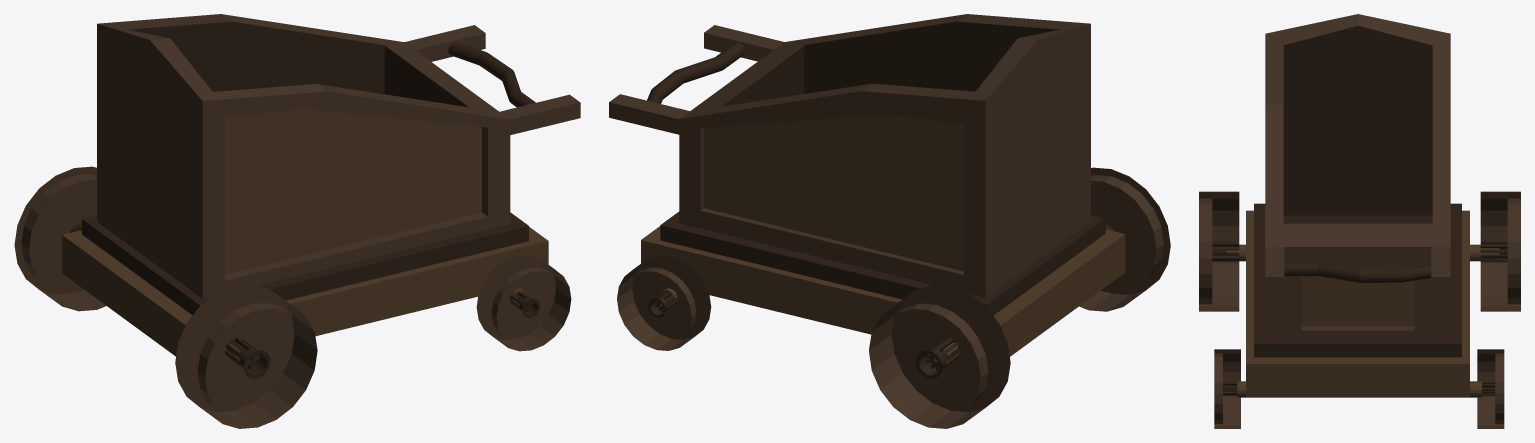
Rendered from chariot Mine.fbx.
The picture shows the model from 3 angles, left to right: view 1: azimuth 30°, elevation 25°; view 2: azimuth 150°, elevation 25°; view 3: azimuth 270°, elevation 25°; orthographic projection. The views are drawn at different scales.
Visible parts, largest first — view 1: planche support chariot.022, Cercle.004, planche support chariot.019, planche support chariot.021, Cercle.001, Cercle.003, manche.002; view 2: planche support chariot.022, planche support chariot.019, Cercle.001, planche support chariot.021, Cercle.004, Cercle.002, manche.002; view 3: planche support chariot.022, planche support chariot.019, planche support chariot.021, Cercle.004, Cercle.001, Cercle.002, Cercle.003, manche.002, Cylindre.001, Cylindre.018.
Boxes of the visible parts, x1,y1,x2,y2 form: planche support chariot.022: (97, 14, 580, 298); Cercle.004: (175, 284, 317, 428); planche support chariot.019: (62, 227, 548, 356); planche support chariot.021: (82, 212, 528, 315); Cercle.001: (14, 166, 106, 311); Cercle.003: (476, 255, 571, 351); manche.002: (448, 42, 535, 107); planche support chariot.022: (609, 14, 1090, 297); planche support chariot.019: (641, 226, 1125, 356); Cercle.001: (869, 285, 1010, 428); planche support chariot.021: (660, 211, 1105, 315); Cercle.004: (1079, 167, 1170, 311); Cercle.002: (617, 255, 711, 350); manche.002: (647, 42, 744, 103); planche support chariot.022: (1265, 14, 1450, 338); planche support chariot.019: (1246, 210, 1469, 397); planche support chariot.021: (1254, 203, 1461, 357); Cercle.004: (1199, 191, 1239, 311); Cercle.001: (1480, 191, 1520, 311); Cercle.002: (1477, 349, 1504, 428); Cercle.003: (1214, 349, 1240, 428); manche.002: (1284, 263, 1431, 283); Cylindre.001: (1226, 244, 1499, 261); Cylindre.018: (1237, 381, 1481, 397).
Size of the model in its own units: 553 by 409 by 419.
